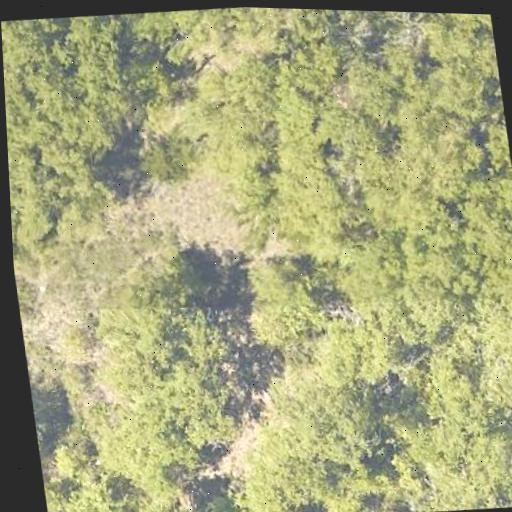tree-top: (207, 379, 397, 509), (99, 290, 260, 435), (1, 21, 141, 175), (229, 249, 335, 362), (99, 389, 197, 503), (417, 423, 512, 512), (36, 420, 125, 512), (203, 112, 284, 207), (321, 226, 414, 307), (409, 335, 489, 429), (450, 161, 512, 274), (421, 50, 498, 125), (8, 162, 65, 259), (223, 48, 288, 128), (279, 33, 353, 101), (474, 78, 512, 208), (131, 124, 203, 186), (316, 99, 388, 161), (123, 483, 226, 512), (475, 342, 512, 413), (220, 490, 324, 512), (442, 13, 495, 44), (323, 489, 376, 512)
